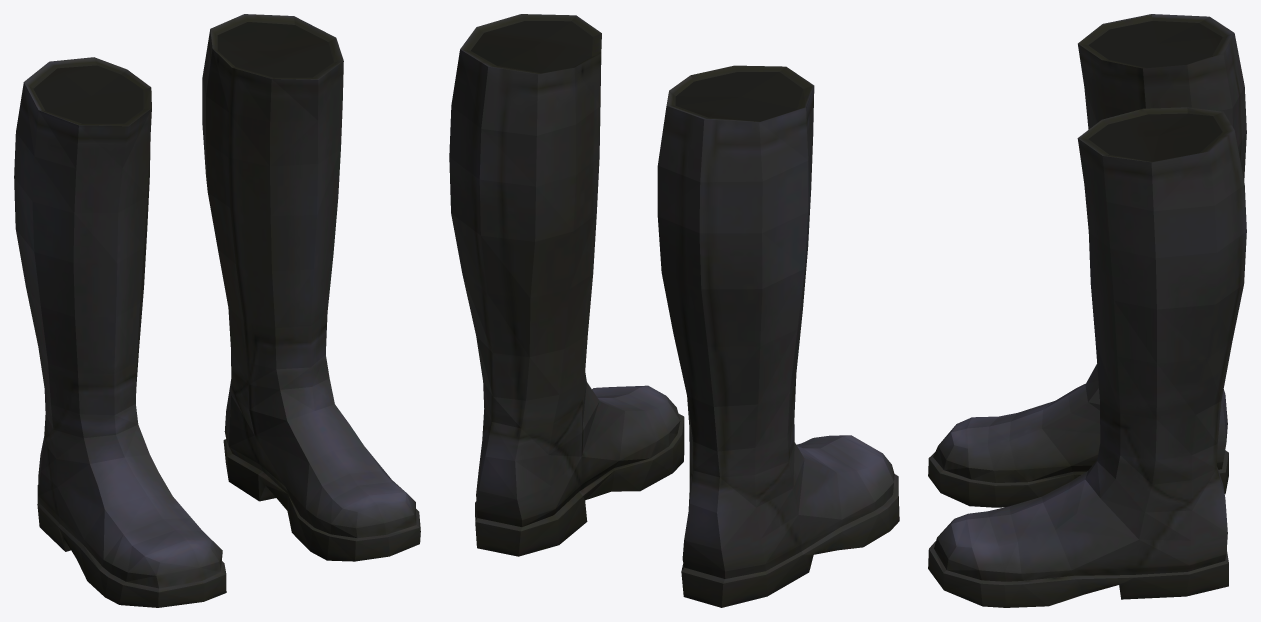
The model's file is Supervillian.obj.
The picture shows the model from 3 angles, left to right: view 1: azimuth 30°, elevation 25°; view 2: azimuth 150°, elevation 25°; view 3: azimuth 270°, elevation 25°; orthographic projection. The views are drawn at different scales.
Visible parts, largest first — view 1: s4studio_mesh_2_geom.005, s4studio_mesh_1_geom.004, s4studio_mesh_3_geom.006; view 2: s4studio_mesh_2_geom.005, s4studio_mesh_1_geom.004, s4studio_mesh_3_geom.006; view 3: s4studio_mesh_2_geom.005, s4studio_mesh_1_geom.004, s4studio_mesh_3_geom.006.
Boxes of the visible parts, x1,y1,x2,y2 form: s4studio_mesh_2_geom.005: (37, 308, 420, 607); s4studio_mesh_1_geom.004: (14, 14, 343, 263); s4studio_mesh_3_geom.006: (15, 192, 338, 373); s4studio_mesh_2_geom.005: (475, 335, 899, 607); s4studio_mesh_1_geom.004: (449, 14, 814, 289); s4studio_mesh_3_geom.006: (451, 213, 807, 406); s4studio_mesh_2_geom.005: (928, 363, 1228, 607); s4studio_mesh_1_geom.004: (1077, 14, 1246, 309); s4studio_mesh_3_geom.006: (1090, 284, 1243, 419).
Bounding box in the file's own units: 0.326 × 0.446 × 0.2866.
Materials: 1 (1 with a texture image).
